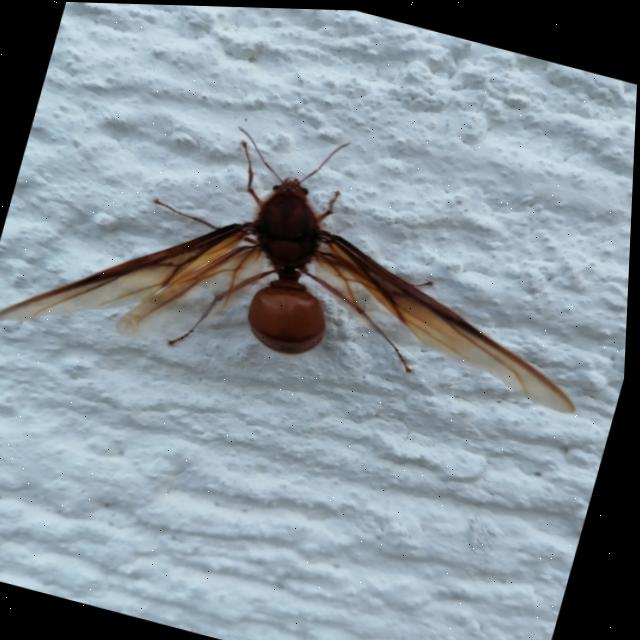Alive-Male-Alate: (0, 63, 636, 471)
